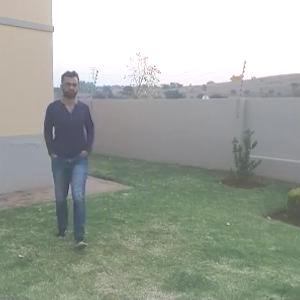follow: (41, 68, 97, 232)
